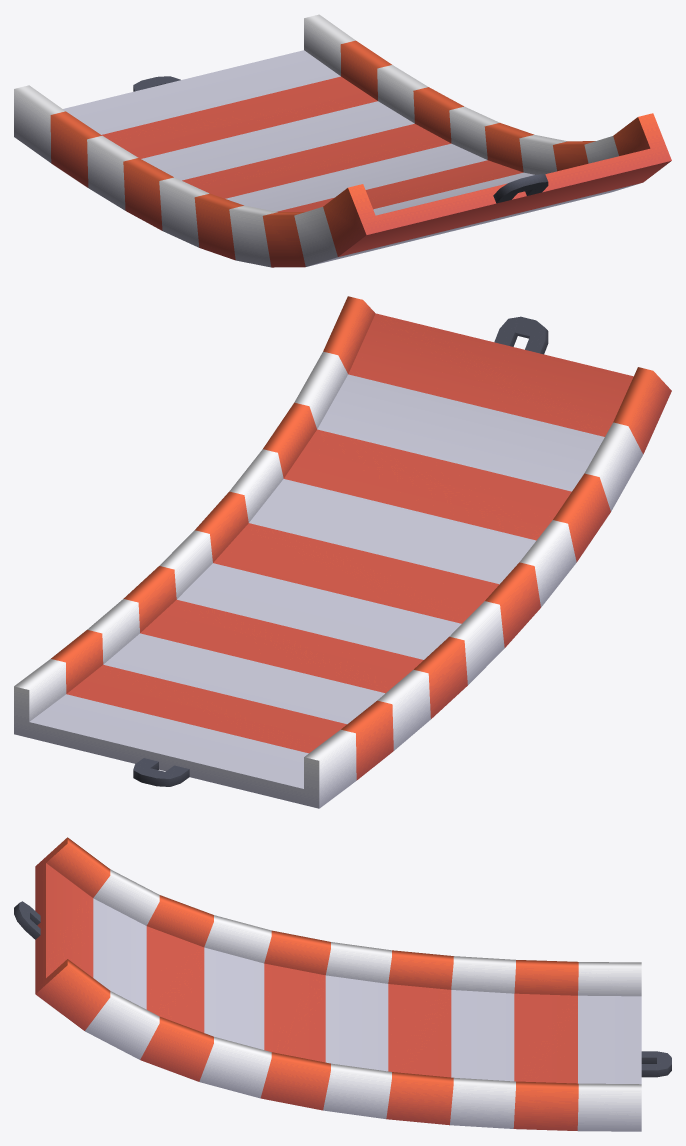
The model's file is track-striped-wide-straight-hill-beginning.glb.
3 views of the same model, one above another, from view 1: azimuth 30°, elevation 25°; view 2: azimuth 150°, elevation 25°; view 3: azimuth 270°, elevation 25° (orthographic). The views are drawn at different scales.
Parts seen in each view (by area): view 1: track-striped-wide-straight-hill-beginning; view 2: track-striped-wide-straight-hill-beginning; view 3: track-striped-wide-straight-hill-beginning.
Boxes of the visible parts, x1,y1,x2,y2 form: track-striped-wide-straight-hill-beginning: [14, 14, 671, 267]; track-striped-wide-straight-hill-beginning: [14, 296, 671, 808]; track-striped-wide-straight-hill-beginning: [14, 837, 671, 1131].
Size of the model in its own units: 6 by 3.64 by 13.02.
Materials: 1 (1 with a texture image).
